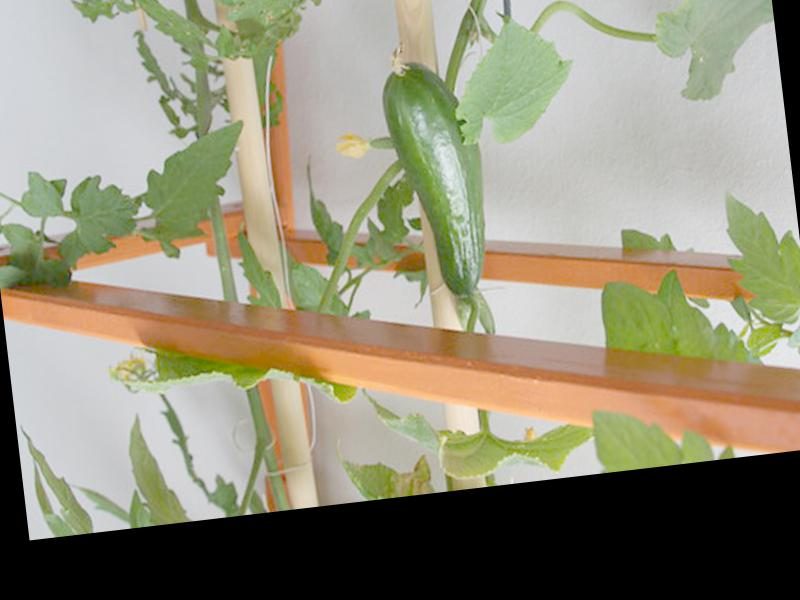Cucumber: (376, 38, 495, 301)
